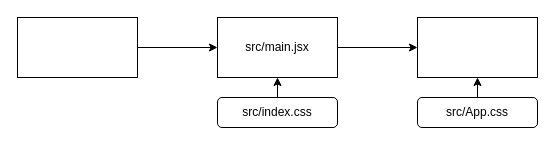
Some shapes in this 555 by 145 pixel diagram are drawn without their labels. Each missing label, with the box of its shape:
index.html: (16, 16, 138, 78)
src/App.jsx: (416, 16, 538, 78)
